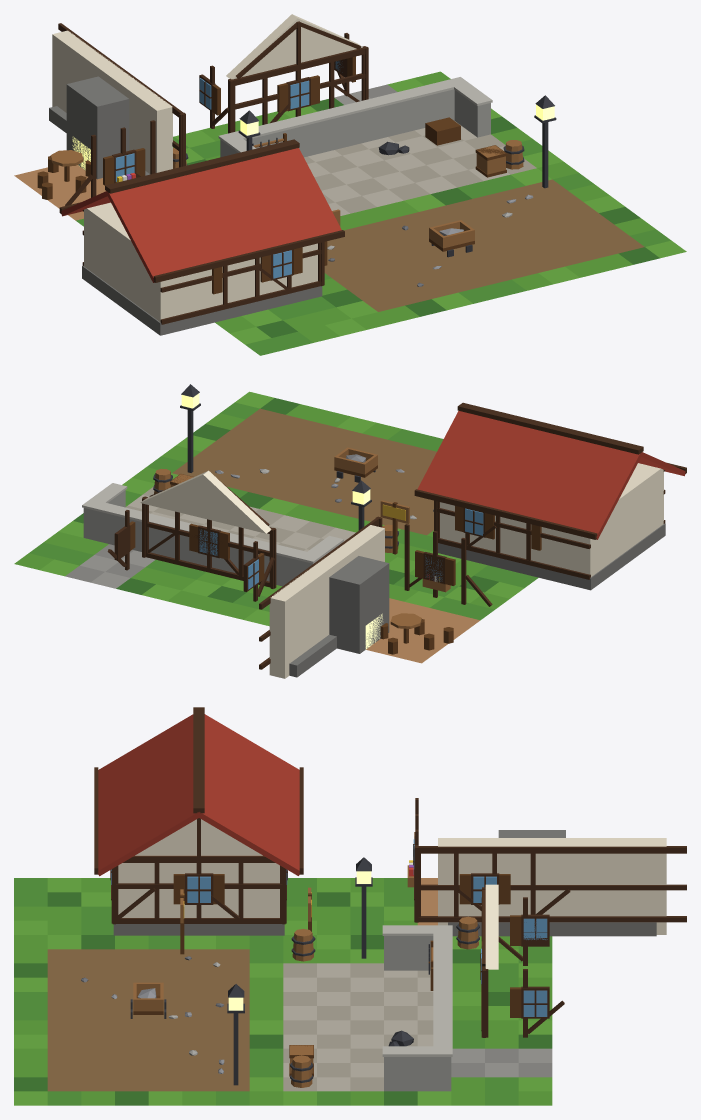
File: chunk_3_3.glb
3 renders of one model, top to bottom at view 1: azimuth 30°, elevation 25°; view 2: azimuth 150°, elevation 25°; view 3: azimuth 270°, elevation 25°, orthographic. The views are drawn at different scales.
Visible parts, largest first — view 1: chunk_3_3; view 2: chunk_3_3; view 3: chunk_3_3.
Boxes of the visible parts, box(x1,y1,x2,y2) form: chunk_3_3: box(14, 14, 686, 355); chunk_3_3: box(14, 384, 686, 678); chunk_3_3: box(14, 707, 686, 1105).
Bounding box in the file's own units: 18.55 × 4.75 × 20.
